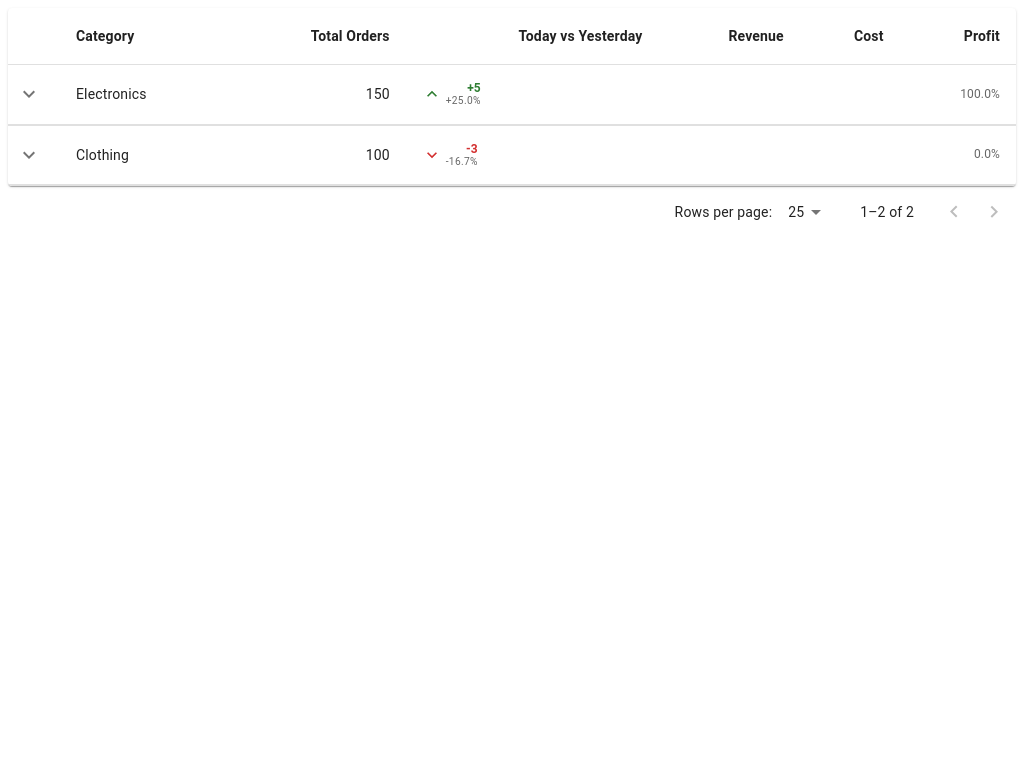
Test case: MergedCategoryTable › shows products when category row is clicked
Expected: the text "Electronics" is shown, x1=60 y1=64 x2=226 y2=124
Step 1. Click the text "Electronics" → click(512, 94), box x1=8 y1=64 x2=1016 y2=124
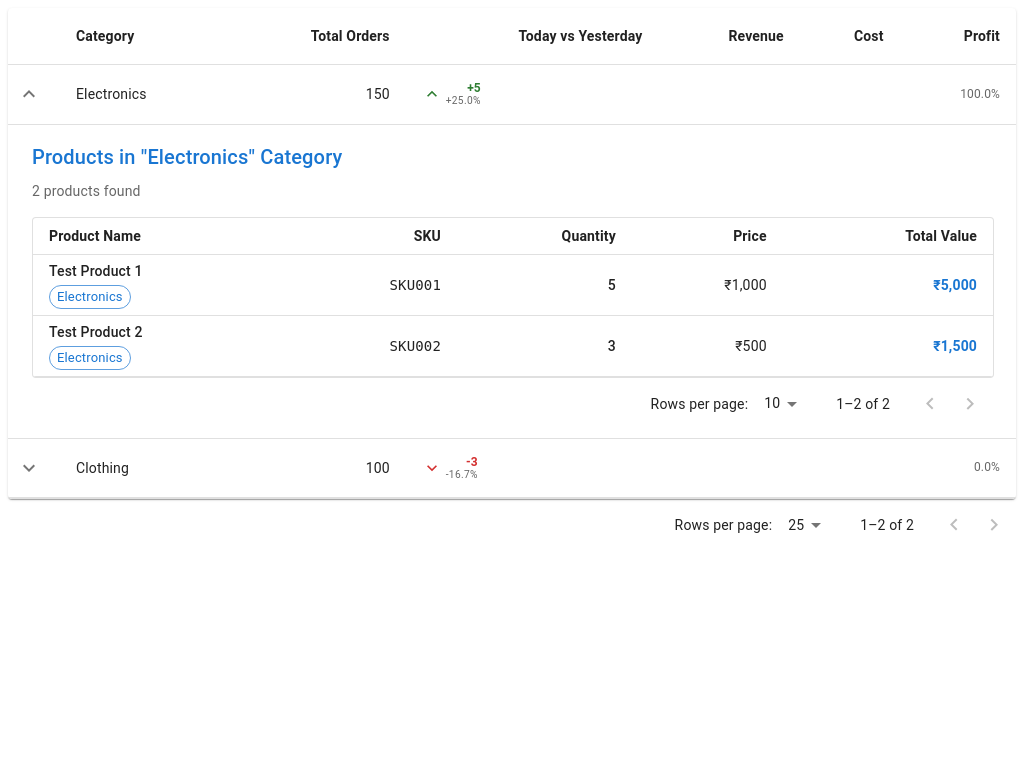
Result: the heading "Products in \"Electronics\" Category" is shown at x1=32 y1=145 x2=342 y2=169
Result: the text "2 products found" is shown at x1=32 y1=183 x2=141 y2=199
Result: the text "Test Product 1" is shown at x1=49 y1=263 x2=143 y2=279
